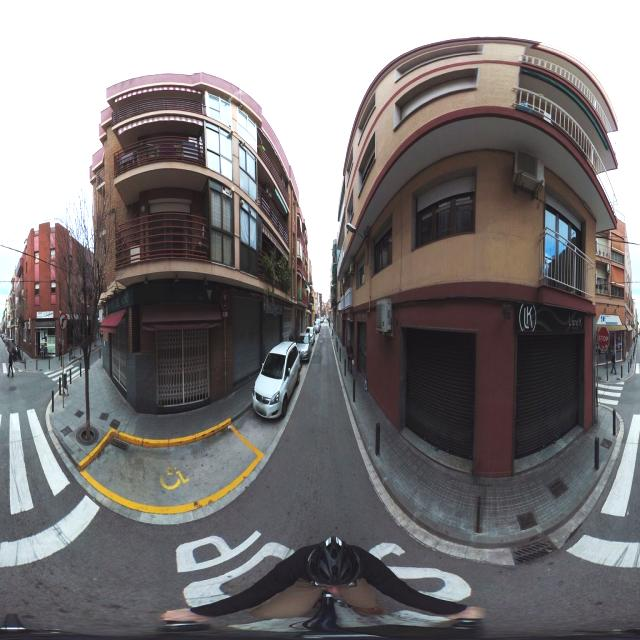car: (252, 340, 301, 422), (295, 331, 311, 363), (306, 326, 316, 348)
